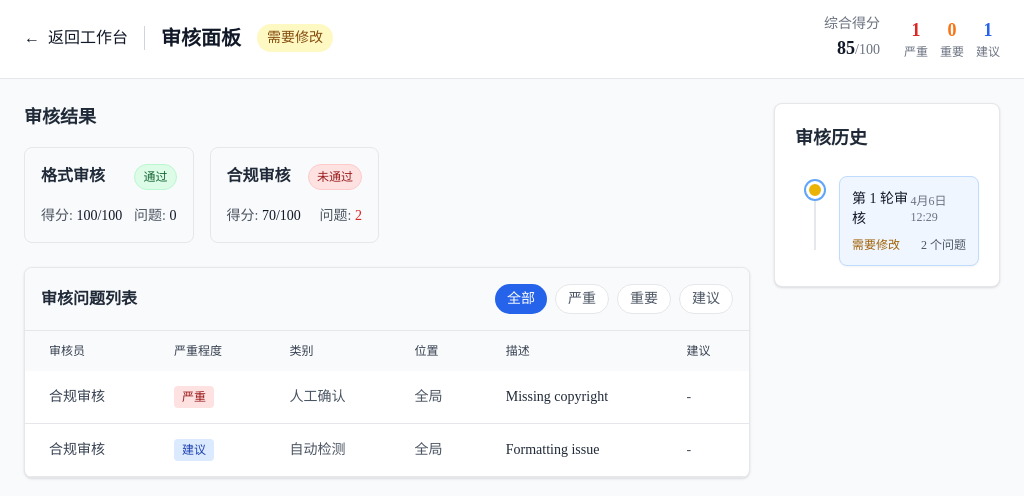
Test: Review Dashboard Page › filters issue table by severity
Expected: the text "Missing copyright" is shown, [506, 389, 608, 404]
Expected: the text "Formatting issue" is shown, [506, 442, 600, 457]
# Click critical filter
Click the button "严重" at [582, 299], box [555, 284, 609, 314]
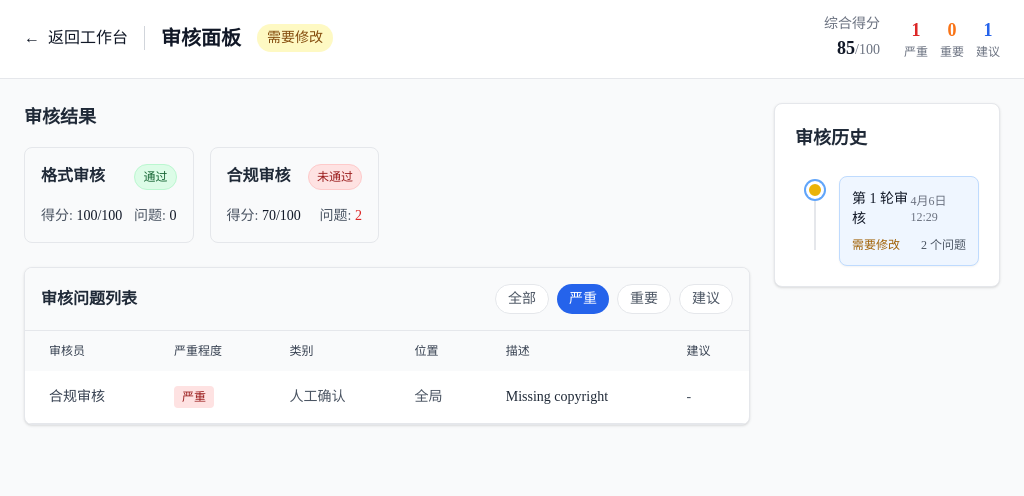
Expected: the text "Missing copyright" is shown, [506, 389, 608, 404]
Now the text "Formatting issue" is gone
